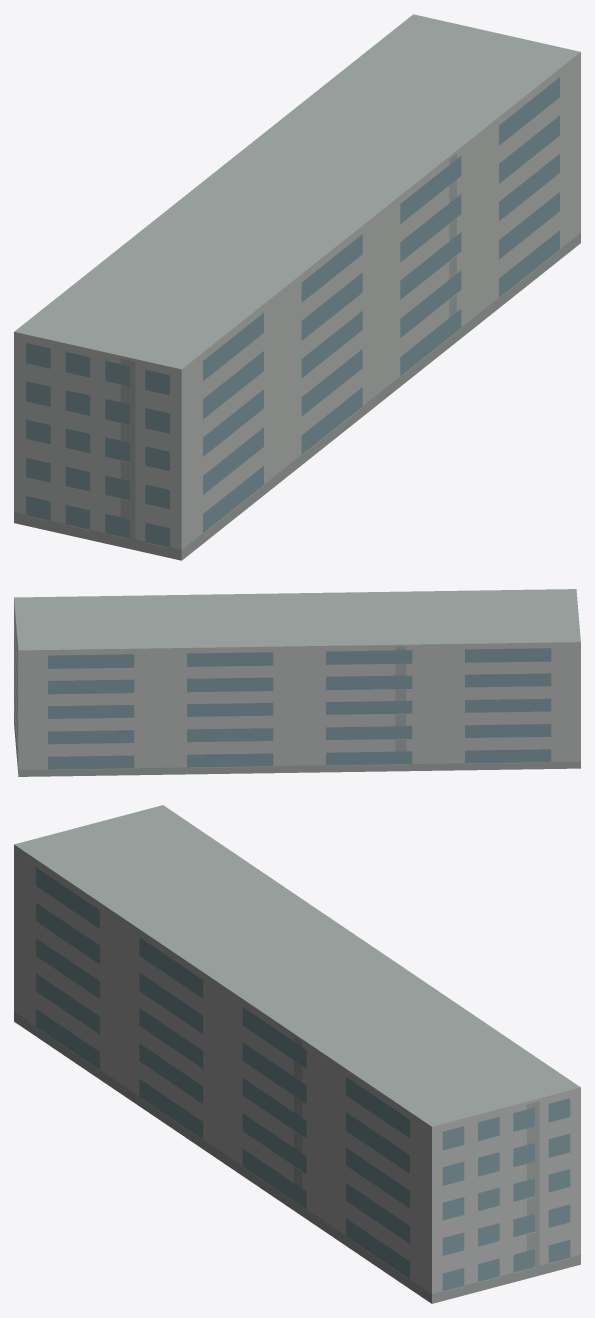
Rendered from residential-f29707af-f132-4a9d-82b0-d6f3c0c14288.glb.
3 views of the same model, one above another, from view 1: azimuth 30°, elevation 25°; view 2: azimuth 150°, elevation 25°; view 3: azimuth 270°, elevation 25° (orthographic). The views are drawn at different scales.
Parts seen in each view (by area): view 1: residential-f29707af-f132-4a9d-82b0-d6f3c0c14288.tmp; view 2: residential-f29707af-f132-4a9d-82b0-d6f3c0c14288.tmp; view 3: residential-f29707af-f132-4a9d-82b0-d6f3c0c14288.tmp.
Boxes of the visible parts, bbox=[...] form: residential-f29707af-f132-4a9d-82b0-d6f3c0c14288.tmp: bbox=[14, 14, 580, 560]; residential-f29707af-f132-4a9d-82b0-d6f3c0c14288.tmp: bbox=[14, 589, 580, 776]; residential-f29707af-f132-4a9d-82b0-d6f3c0c14288.tmp: bbox=[14, 805, 580, 1303].
Size of the model in its own units: 59.42 by 15.25 by 44.24.
